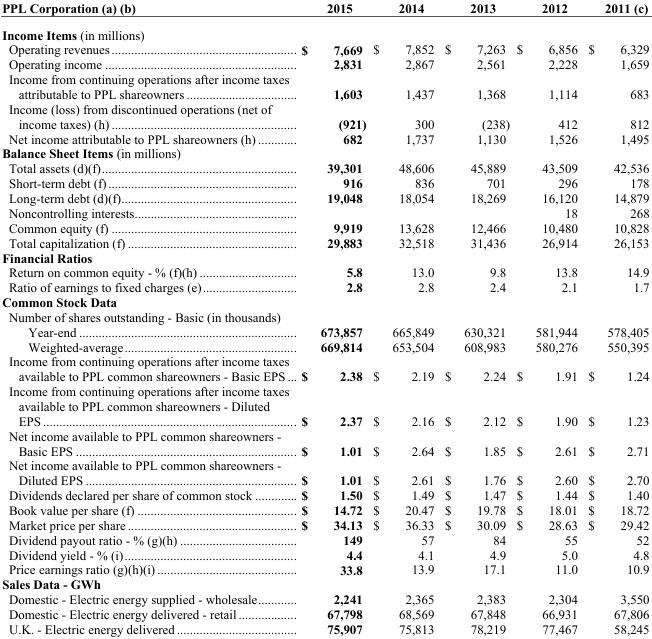table: (1, 0, 648, 635)
table column: (1, 0, 292, 635), (292, 0, 368, 635), (438, 0, 512, 635), (368, 0, 438, 635), (512, 0, 582, 635), (582, 0, 648, 635)
table column header: (1, 0, 648, 21)
table projected row header: (1, 21, 648, 41), (1, 71, 648, 86), (1, 145, 648, 160), (1, 249, 648, 264), (1, 294, 648, 309), (1, 353, 648, 368), (1, 383, 648, 398), (1, 457, 648, 472), (1, 576, 648, 591), (1, 101, 648, 115), (1, 309, 648, 323), (1, 428, 648, 442)
table row: (1, 398, 648, 428), (1, 0, 648, 21), (1, 21, 648, 41), (1, 41, 648, 56), (1, 56, 648, 71), (1, 71, 648, 86), (1, 86, 648, 101), (1, 115, 648, 130), (1, 130, 648, 145), (1, 145, 648, 160), (1, 160, 648, 175), (1, 175, 648, 190), (1, 190, 648, 205), (1, 219, 648, 234), (1, 234, 648, 249), (1, 249, 648, 264), (1, 264, 648, 279), (1, 279, 648, 294), (1, 294, 648, 309), (1, 323, 648, 338), (1, 338, 648, 353), (1, 353, 648, 368), (1, 368, 648, 383), (1, 383, 648, 398), (1, 442, 648, 457), (1, 457, 648, 472), (1, 472, 648, 487), (1, 487, 648, 502), (1, 502, 648, 517), (1, 517, 648, 532), (1, 546, 648, 561), (1, 561, 648, 576), (1, 576, 648, 591), (1, 591, 648, 606), (1, 606, 648, 621), (1, 101, 648, 115), (1, 205, 648, 219), (1, 309, 648, 323), (1, 428, 648, 442), (1, 532, 648, 546), (1, 621, 648, 635)
